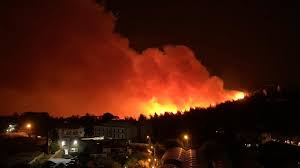fire: (121, 95, 222, 113), (228, 86, 249, 104)
smoke: (10, 6, 227, 93)
